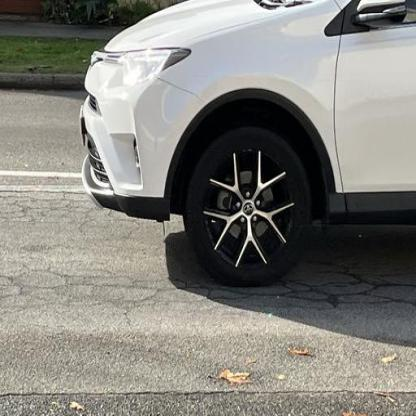Tire: (184, 126, 312, 288)
